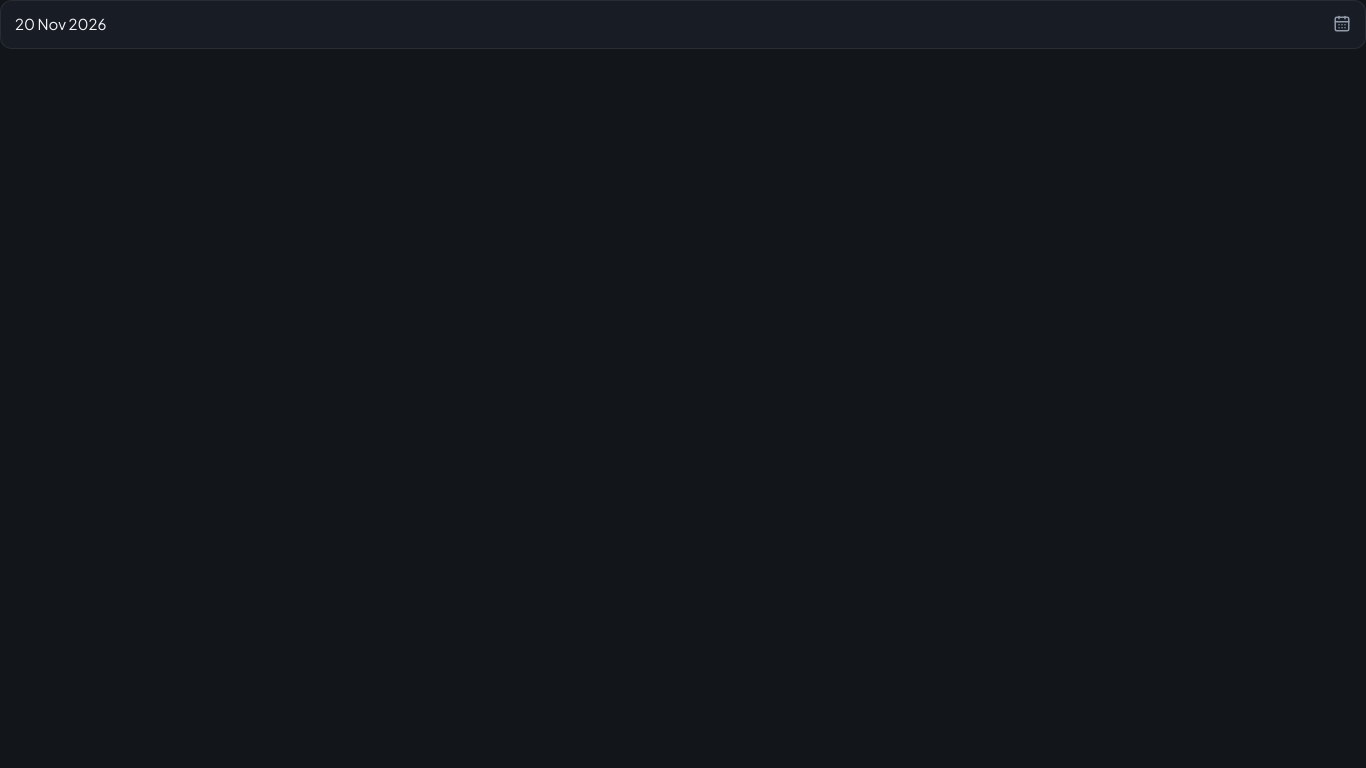
Test case: DatePicker (a calendar in a bottom sheet) › clears the date, unless a date is always needed
The image size is (1366, 768).
Later steps or results of the test are not shown.
Click the button with aria-label "Day".
click(61, 24)  # box [0, 0, 1365, 48]
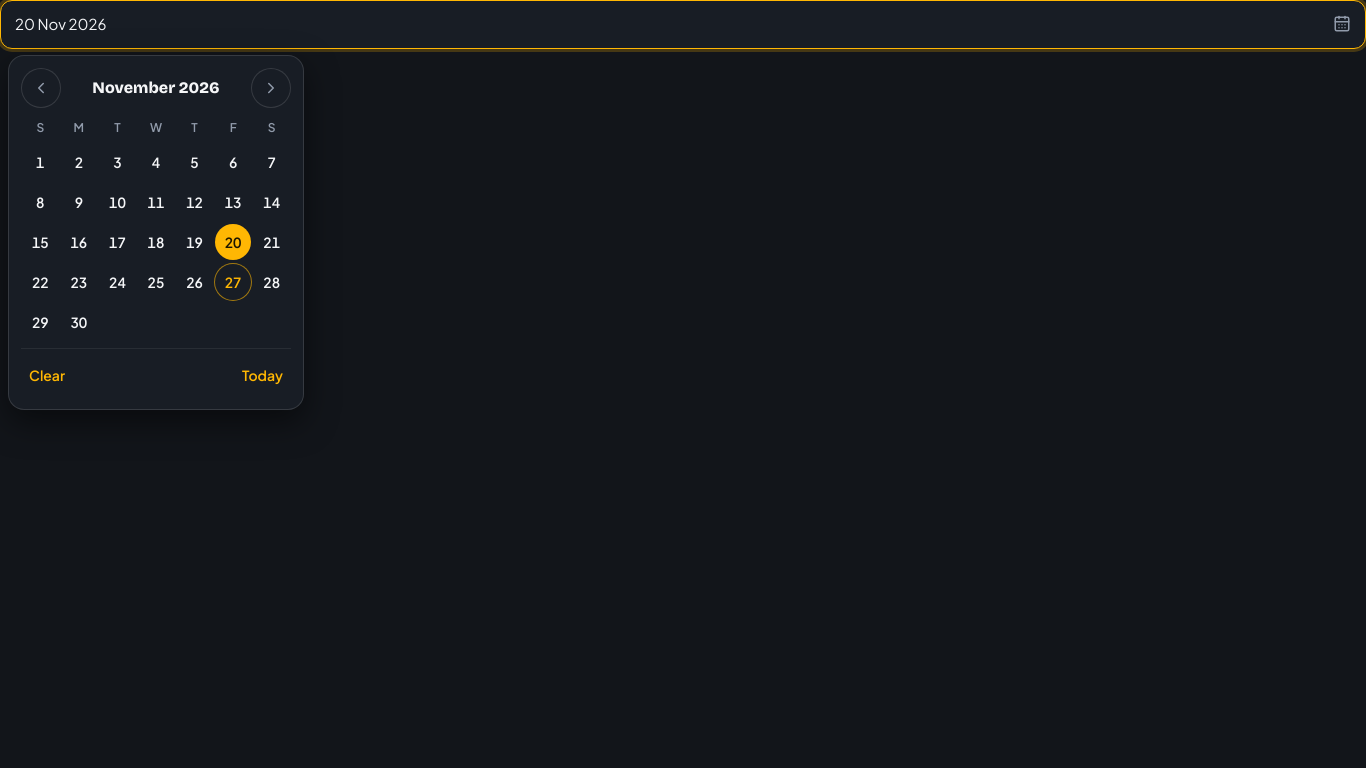
Click the button "Clear".
click(47, 374)  # box [21, 352, 73, 396]
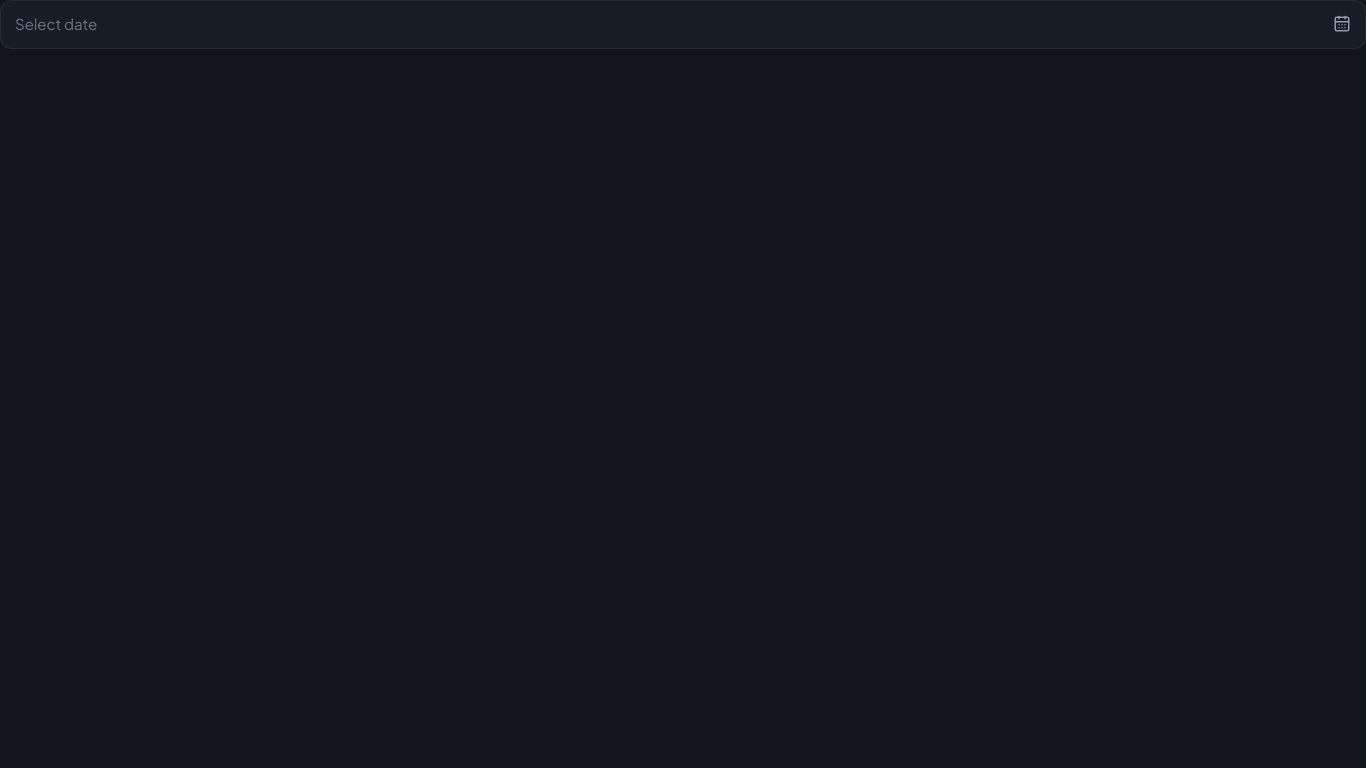
Now the button with aria-label "Day" reads "Select date", box [0, 0, 1365, 48]
